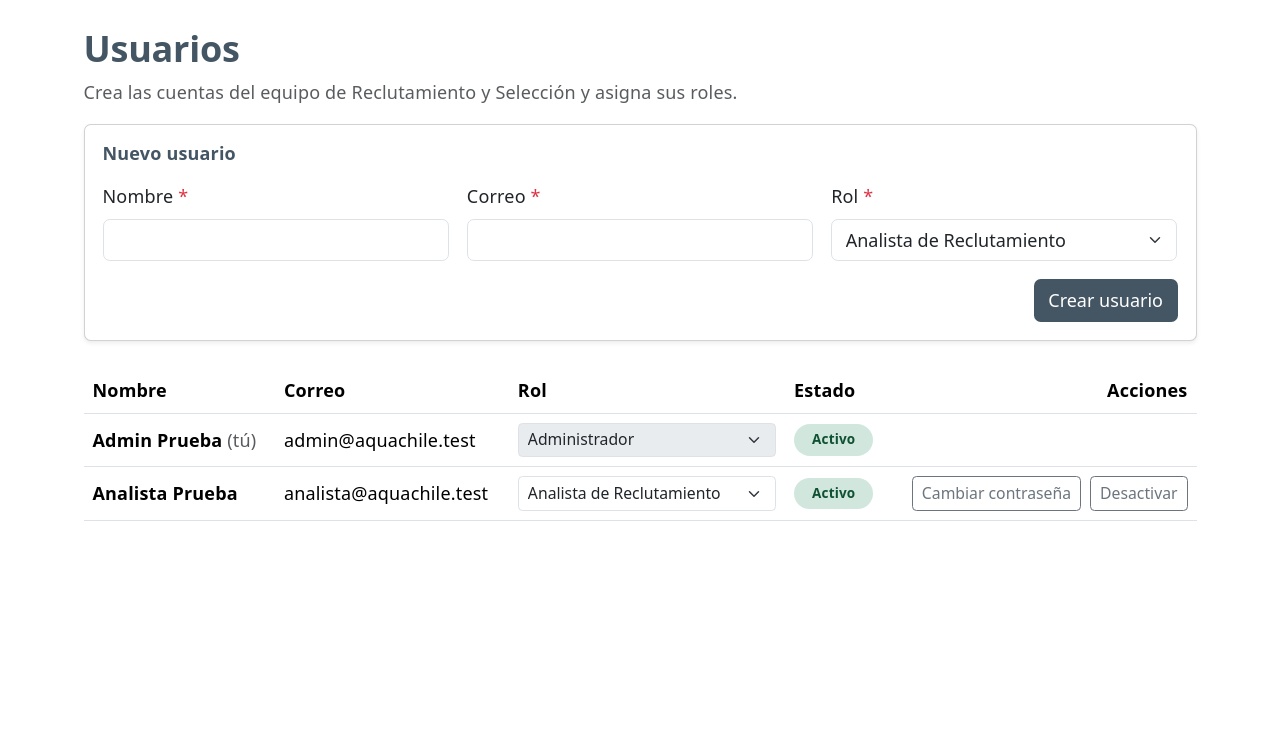
Scenario: Usuarios › cambia la contraseña de otro usuario con el código que llega al administrador
Expected: the text "analista@aquachile.test" is shown, [275, 467, 509, 520]
Click the button "Cambiar contraseña".
click(996, 494)  # box [912, 476, 1081, 511]
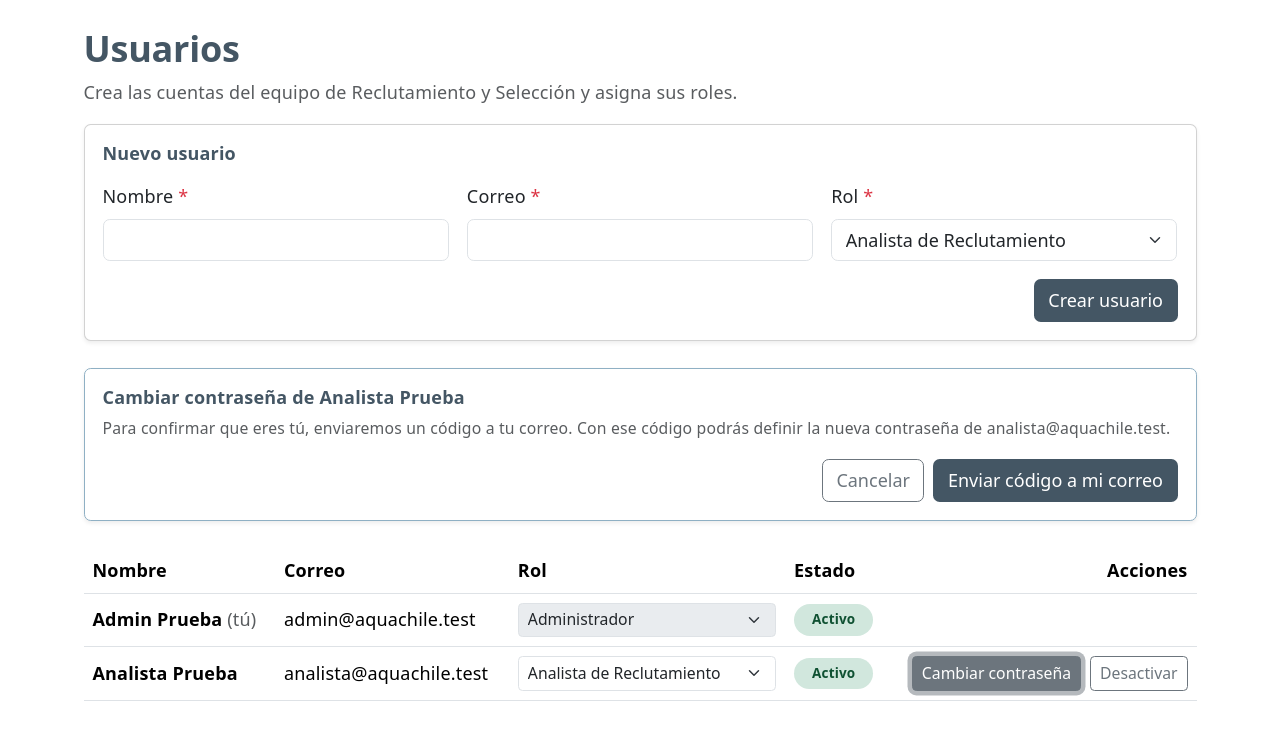
Click the button "Enviar código a mi correo".
click(1056, 480)  # box [934, 459, 1178, 502]
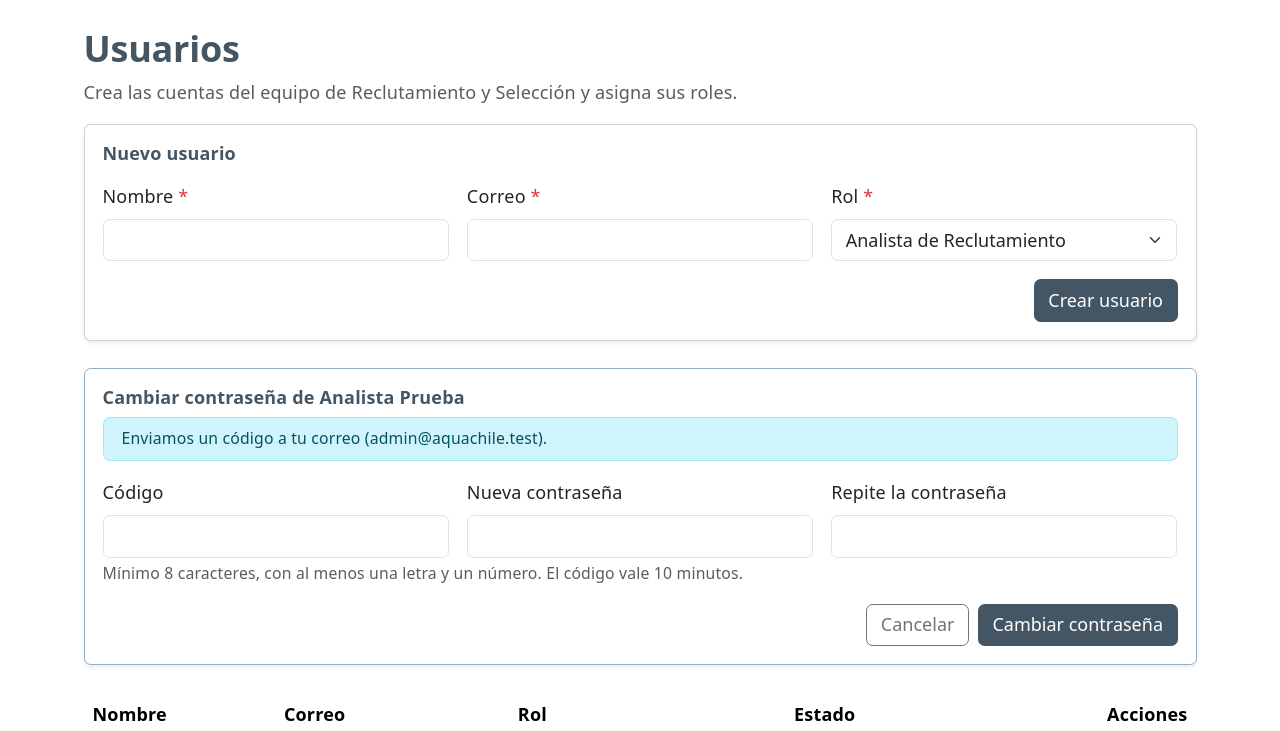
Now the text "Enviamos un código a tu correo (admin@aquachile.test)." is shown, box [102, 417, 1178, 461]
Type "123456" into the field labelled "Código".
click(276, 536); type("123456")  # box [102, 515, 449, 558]
Type "Clave2026!" into the password field labelled "Nueva contraseña".
click(640, 536); type("Clave2026!")  # box [467, 515, 813, 558]
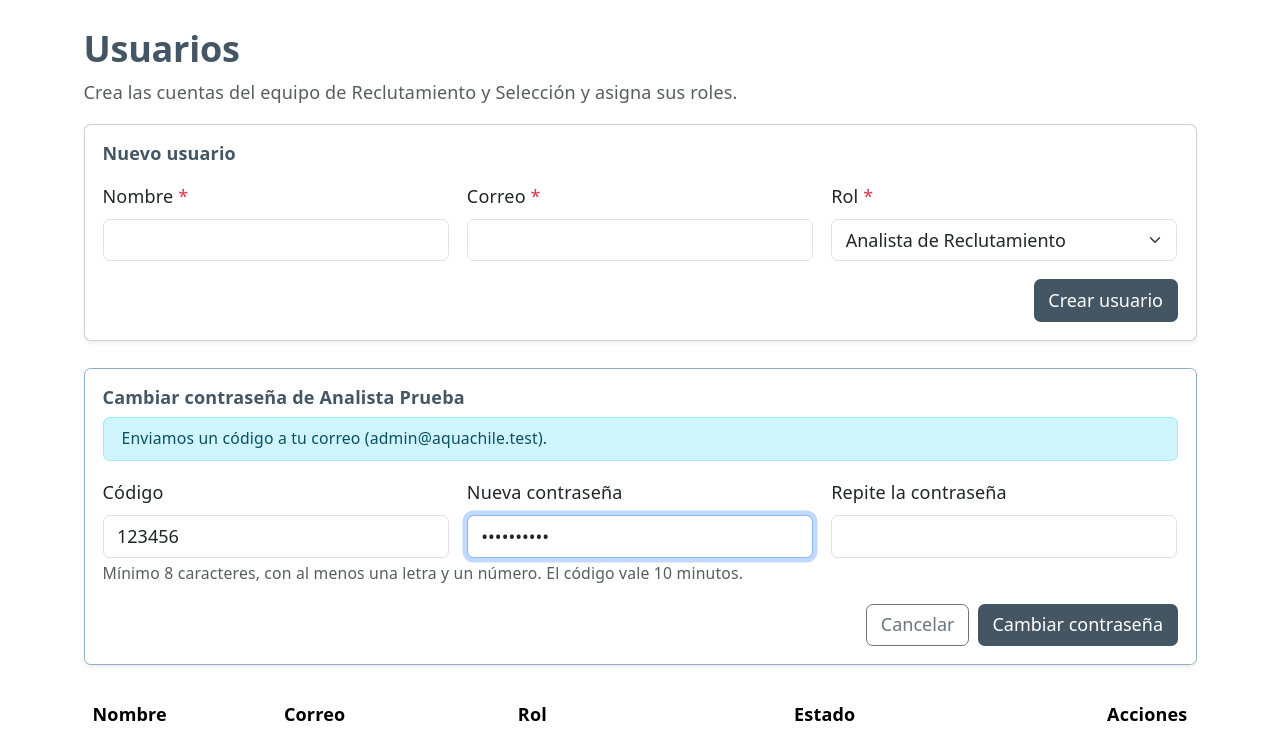
Type "Otra2026!" into the password field labelled "Repite la contraseña".
click(1004, 536); type("Otra2026!")  # box [831, 515, 1178, 558]
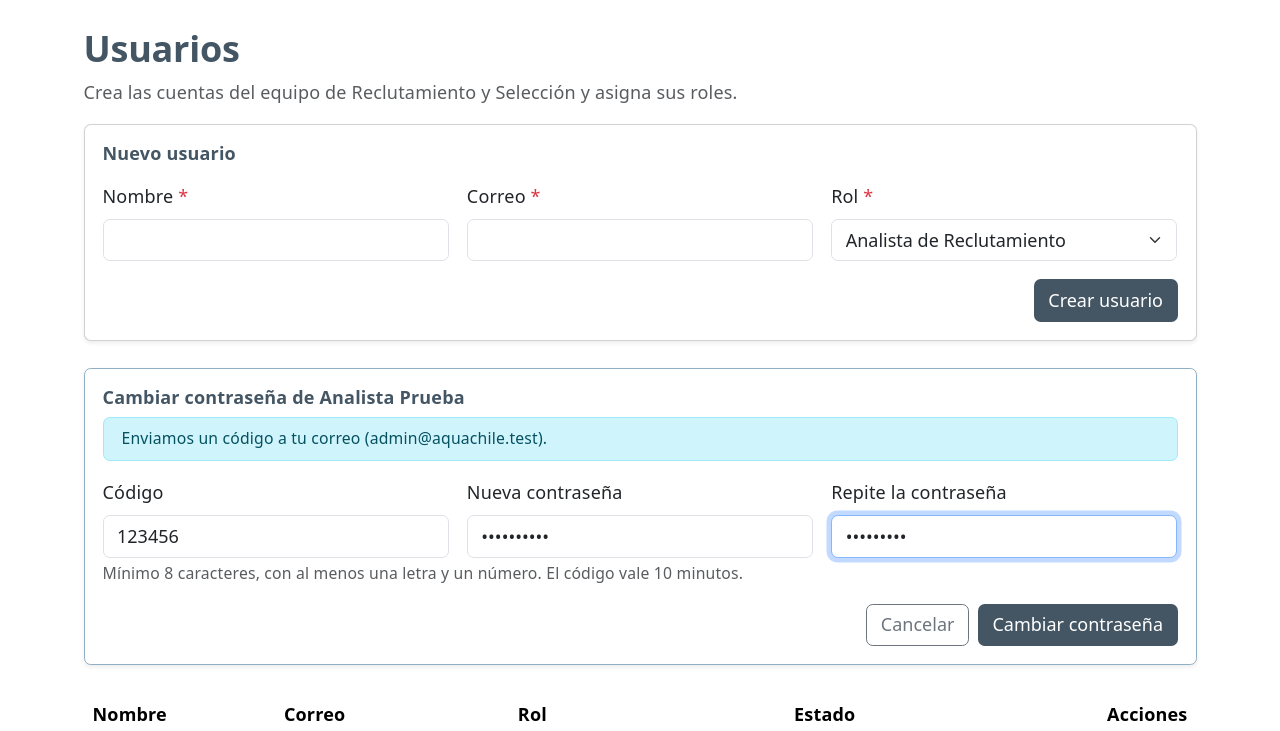
Click the button "Cambiar contraseña".
click(1078, 625)  # box [978, 604, 1178, 646]
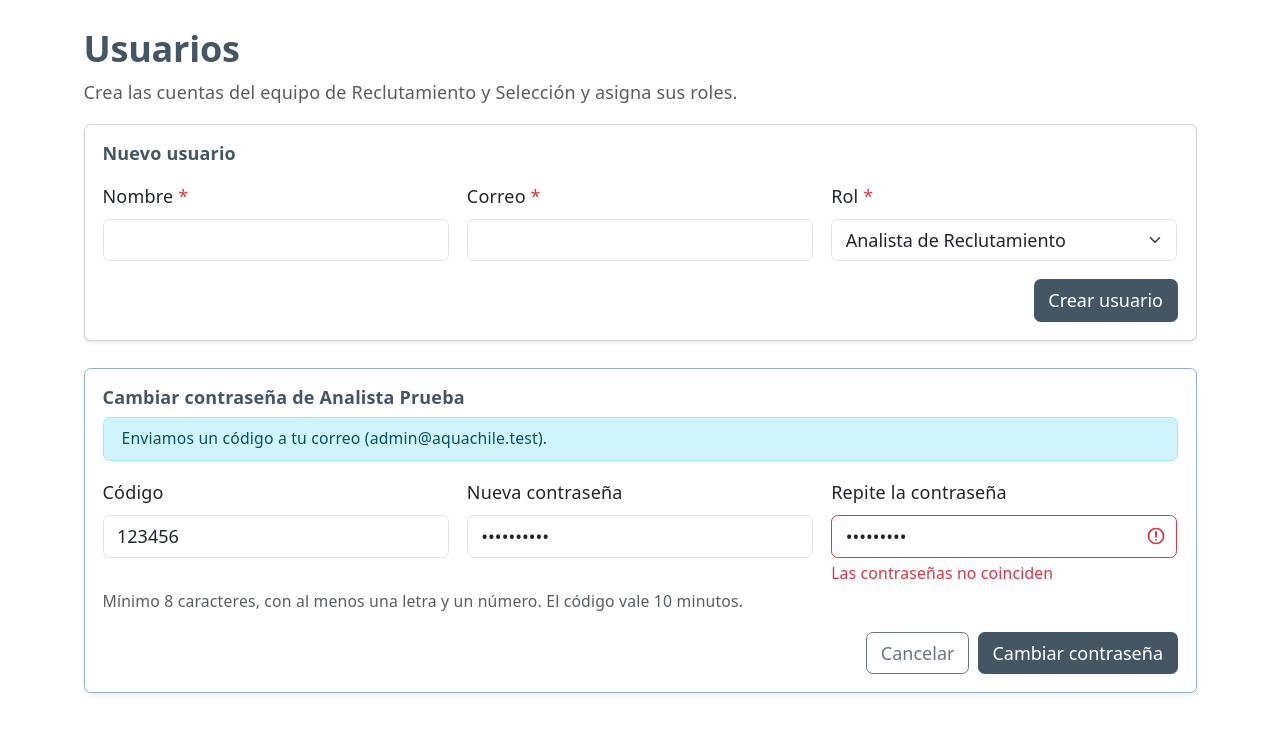
Now the text "Las contraseñas no coinciden" is shown, box [831, 562, 1053, 584]
Type "Clave2026!" into the password field labelled "Repite la contraseña".
click(1004, 536); type("Clave2026!")  # box [831, 515, 1178, 558]
Click the button "Cambiar contraseña".
click(1078, 653)  # box [978, 632, 1178, 674]
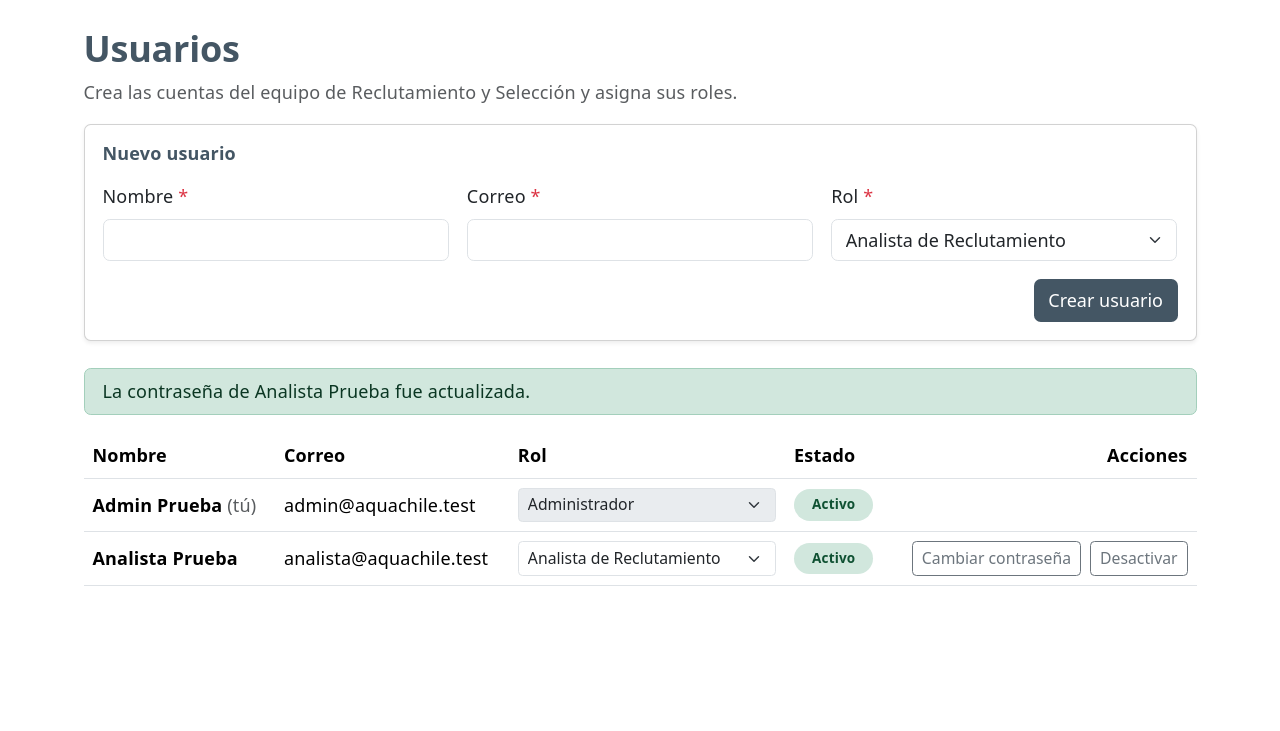
Now the text "La contraseña de Analista Prueba fue actualizada." is shown, box [84, 368, 1196, 415]
